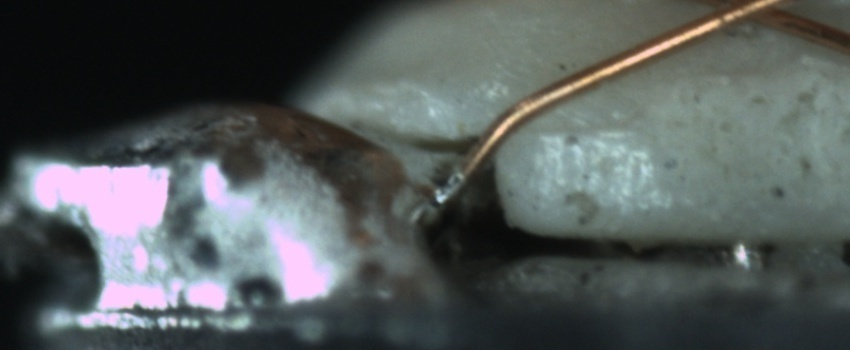CL: (676, 2, 816, 37)
DL: (535, 102, 655, 159)
TS: (435, 163, 463, 206)
